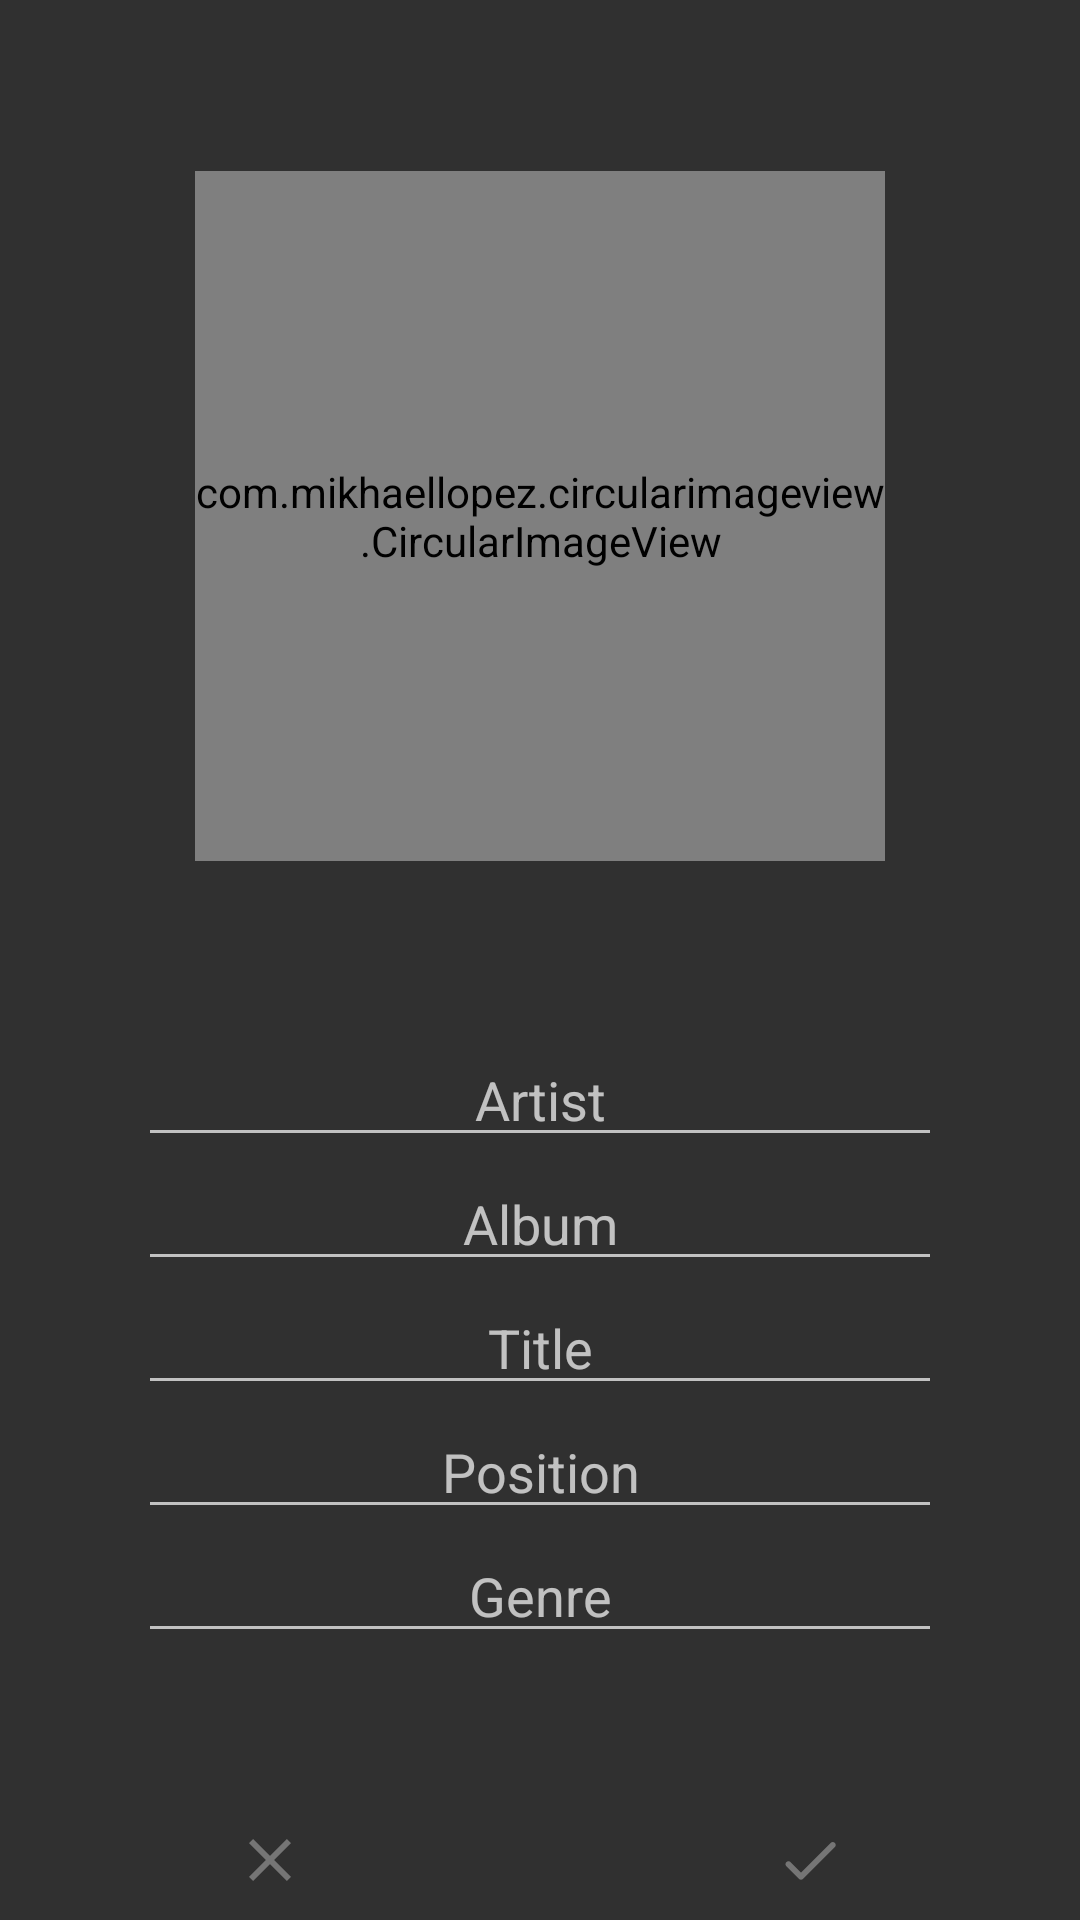

Icons on this 1080*1920 Android screen, each with its box as (x1, y1, x2, y2):
close: (249, 1839, 291, 1881)
save: (785, 1842, 836, 1880)
